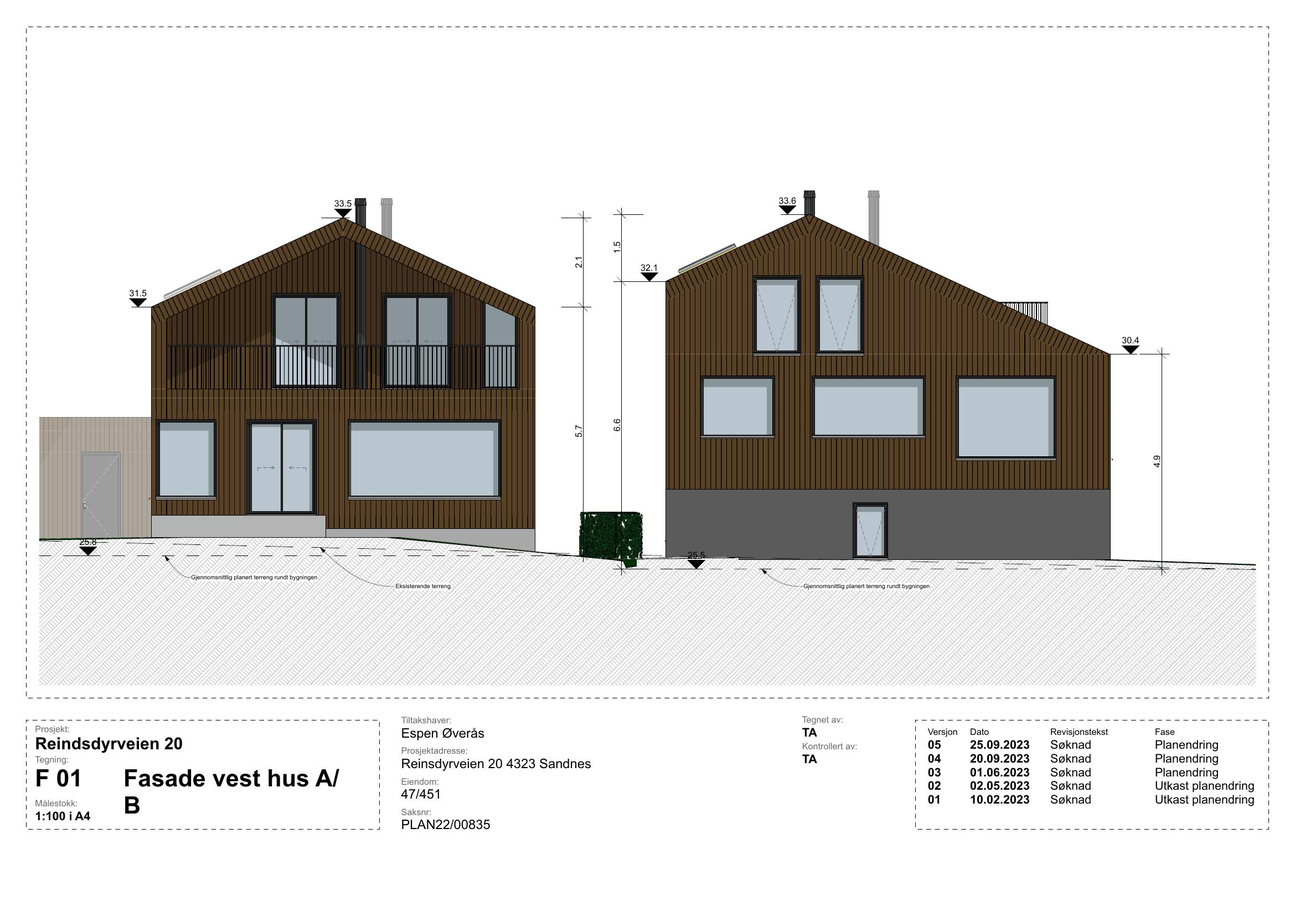fasade: (37, 196, 539, 563), (662, 189, 1113, 578)
